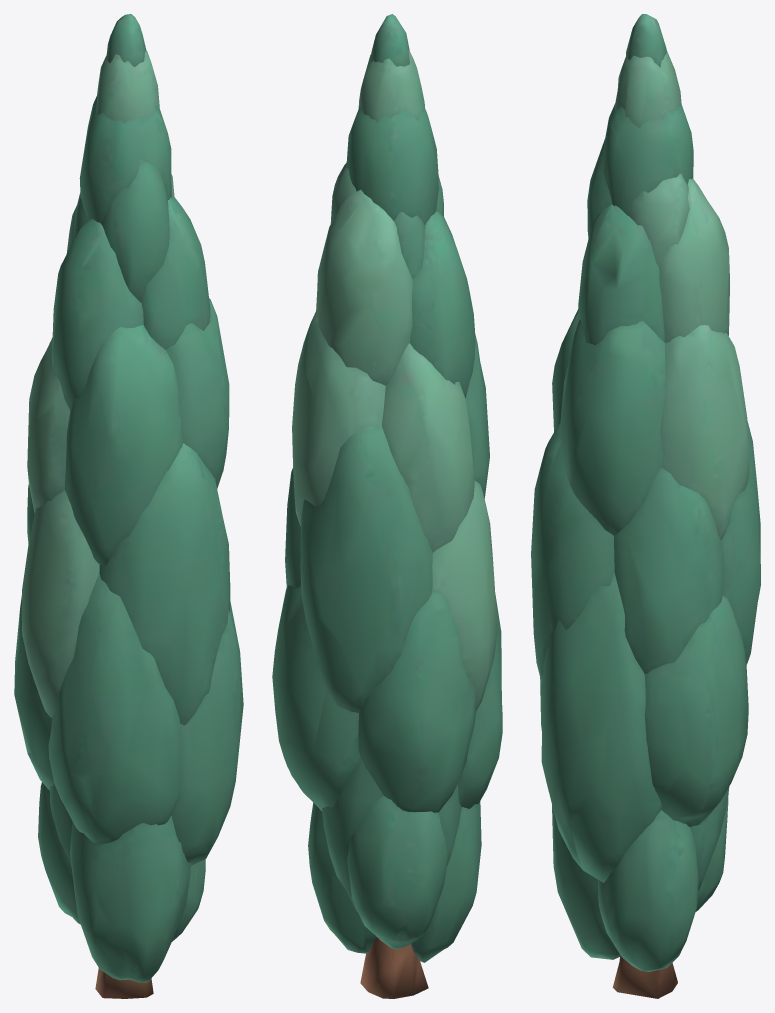
Rendered from cypress-tree.glb.
3 views of the same model, side by side, from view 1: azimuth 30°, elevation 25°; view 2: azimuth 150°, elevation 25°; view 3: azimuth 270°, elevation 25° (orthographic).
Visible parts, largest first — view 1: cypress-tree_body; view 2: cypress-tree_body; view 3: cypress-tree_body.
Boxes of the visible parts, bbox=[...] form: cypress-tree_body: bbox=[14, 14, 243, 998]; cypress-tree_body: bbox=[272, 14, 502, 998]; cypress-tree_body: bbox=[531, 14, 760, 998].
Bounding box in the file's own units: 1.42 × 6.92 × 1.48.
Materials: 1 (1 with a texture image).
